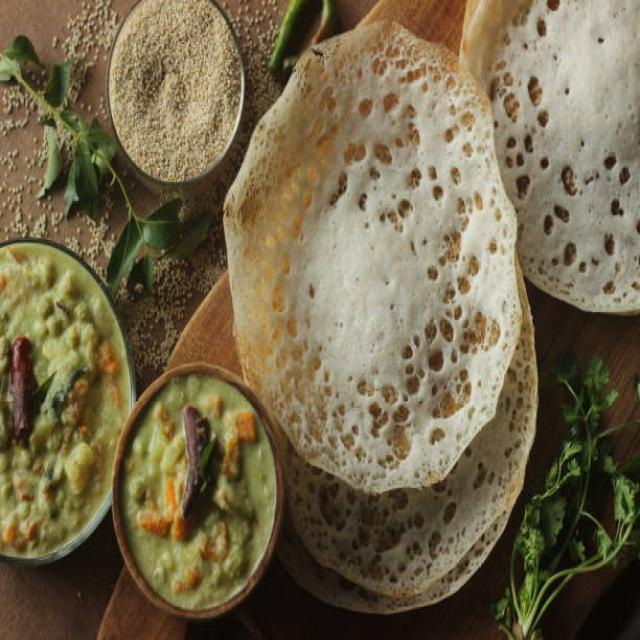AAPAM: (229, 2, 639, 611)
VEGGIES: (0, 245, 129, 554), (126, 379, 274, 604)
